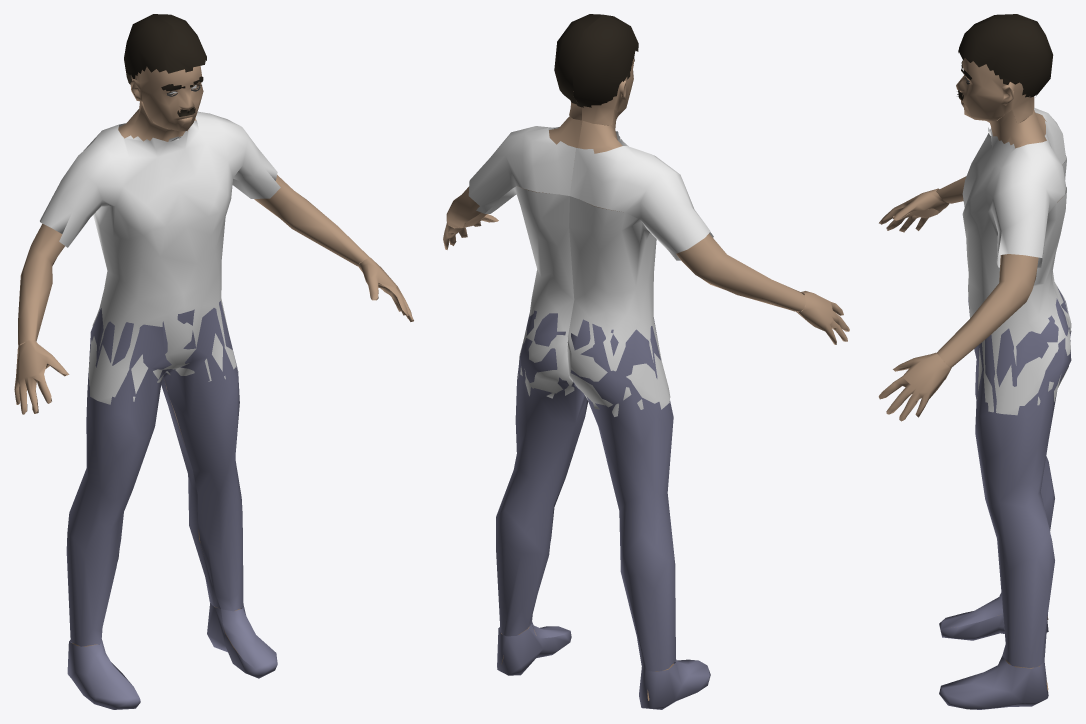
Rendered from man_00.glb.
3 views of the same model, side by side, from view 1: azimuth 30°, elevation 25°; view 2: azimuth 150°, elevation 25°; view 3: azimuth 270°, elevation 25° (orthographic).
Parts seen in each view (by area): view 1: crowd; view 2: crowd; view 3: crowd.
Boxes of the visible parts, left/top/right/bottom form: crowd: left=14, top=14, right=413, bottom=709; crowd: left=443, top=14, right=849, bottom=709; crowd: left=878, top=14, right=1071, bottom=709.
Bounding box in the file's own units: 1.05 × 1.68 × 0.4503.
